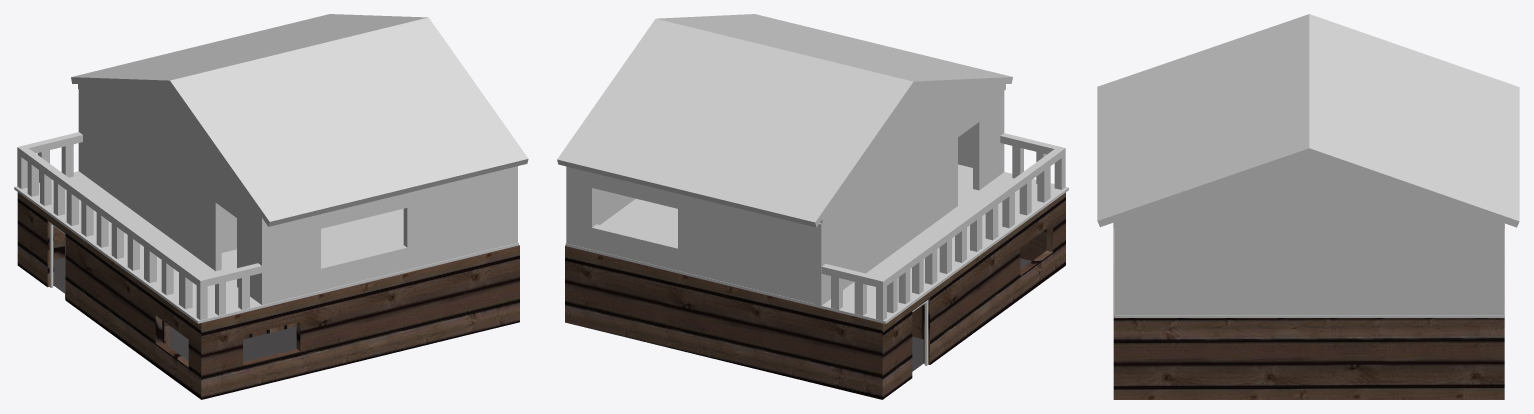
Rendered from house.fbx.
3 renders of one model, left to right at view 1: azimuth 30°, elevation 25°; view 2: azimuth 150°, elevation 25°; view 3: azimuth 270°, elevation 25°, orthographic. The views are drawn at different scales.
Parts seen in each view (by area): view 1: Roof, OuterWall, SecondFloorWalls, Cube, SecondFloor, Ceilings, Floor; view 2: Roof, OuterWall, SecondFloorWalls, Cube, SecondFloor, Ceilings; view 3: Roof, SecondFloorWalls, OuterWall, Ceilings, SecondFloor.
Boxes of the visible parts, x1,y1,x2,y2 form: Roof: (71, 14, 528, 226); OuterWall: (17, 192, 519, 399); SecondFloorWalls: (78, 89, 517, 304); Cube: (17, 132, 262, 320); SecondFloor: (14, 171, 518, 323); Ceilings: (78, 82, 264, 223); Floor: (54, 257, 296, 361); Roof: (557, 14, 1012, 227); OuterWall: (565, 192, 1065, 399); SecondFloorWalls: (566, 91, 1004, 306); Cube: (821, 133, 1065, 320); SecondFloor: (565, 164, 1068, 323); Ceilings: (820, 83, 1005, 223); Roof: (1097, 14, 1519, 227); SecondFloorWalls: (1115, 228, 1503, 314); OuterWall: (1113, 223, 1504, 399); Ceilings: (1113, 154, 1504, 228); SecondFloor: (1114, 228, 1504, 317).
Size of the model in its own units: 1056 by 742 by 1125.
